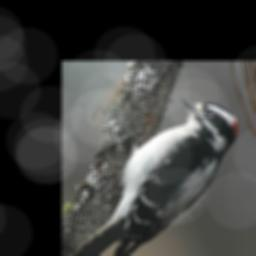Woodpecker: (72, 97, 239, 256)
